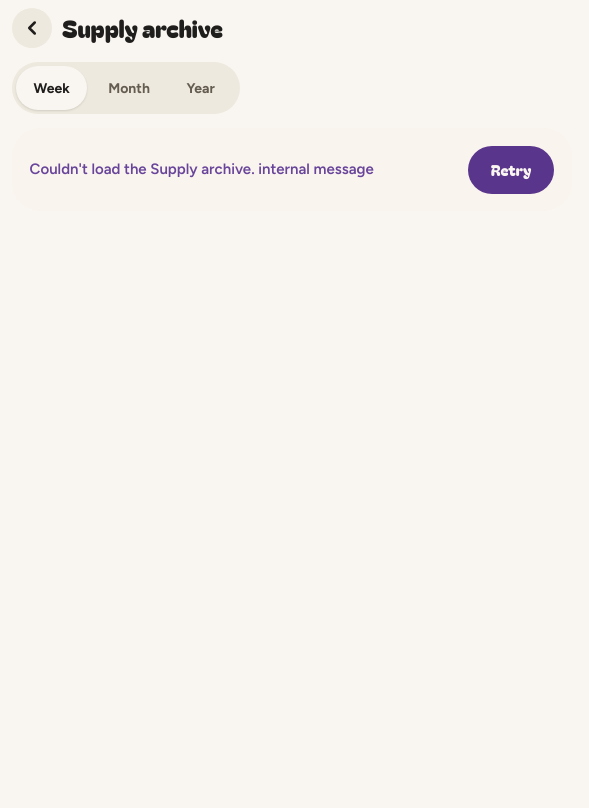
Test: SupplyArchivePage › reports a failed load and retries it
expect the message shows "Couldn't load the Supply archive.": met, box [30, 160, 258, 178]
Click the button "Retry" at (511, 170), box [468, 146, 554, 194]
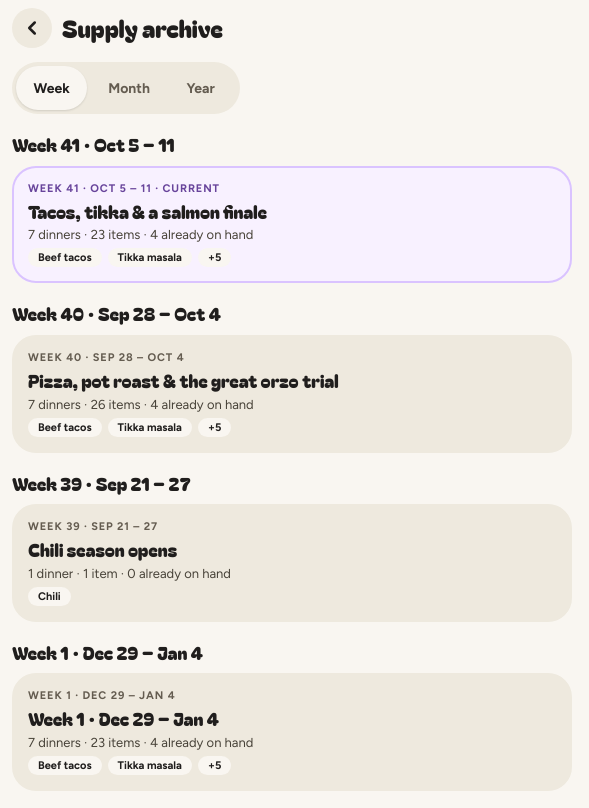
expect the text "Chili season opens" is shown: met, box [28, 536, 177, 562]
